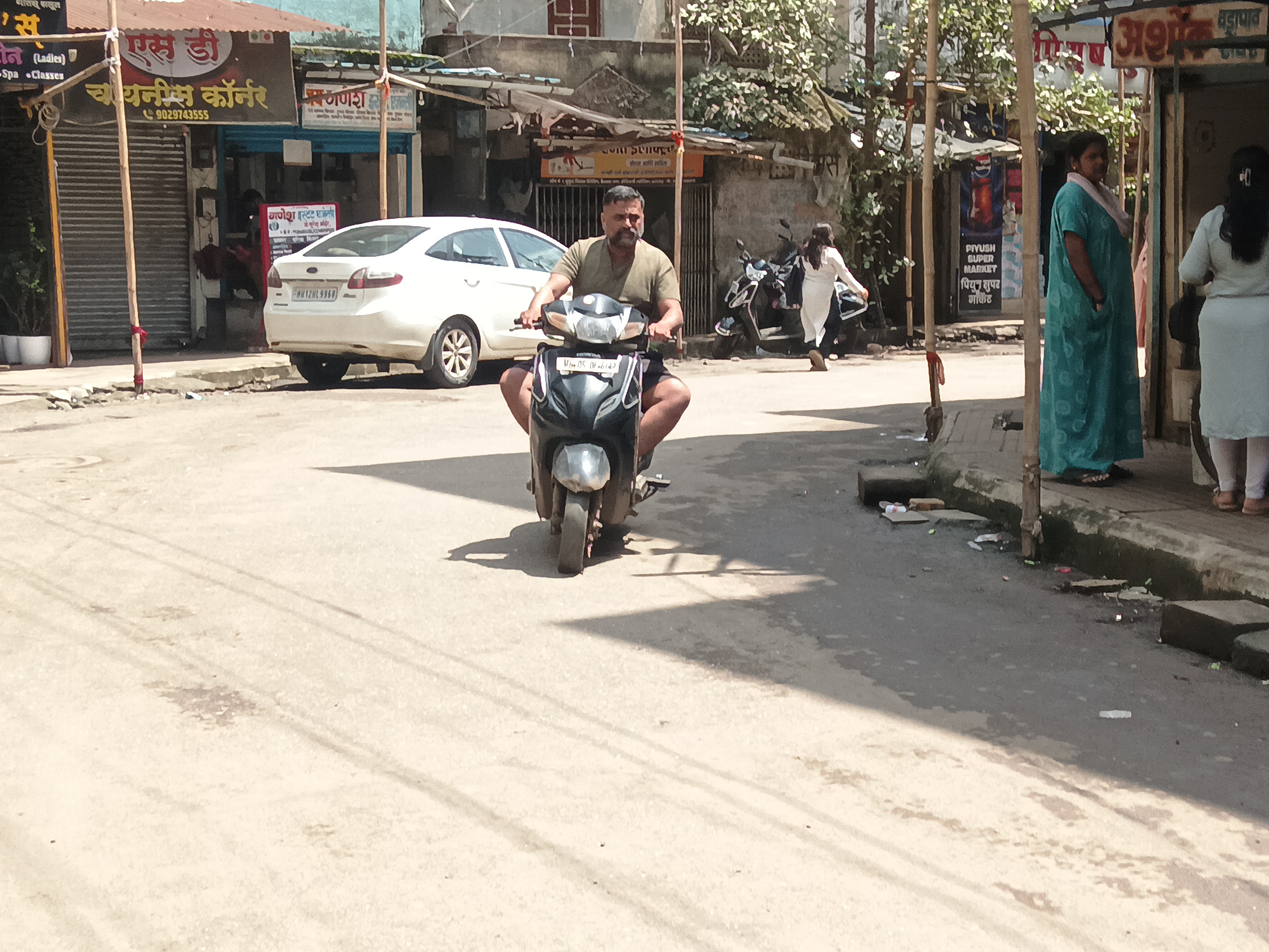vehicle: (295, 278, 356, 298)
